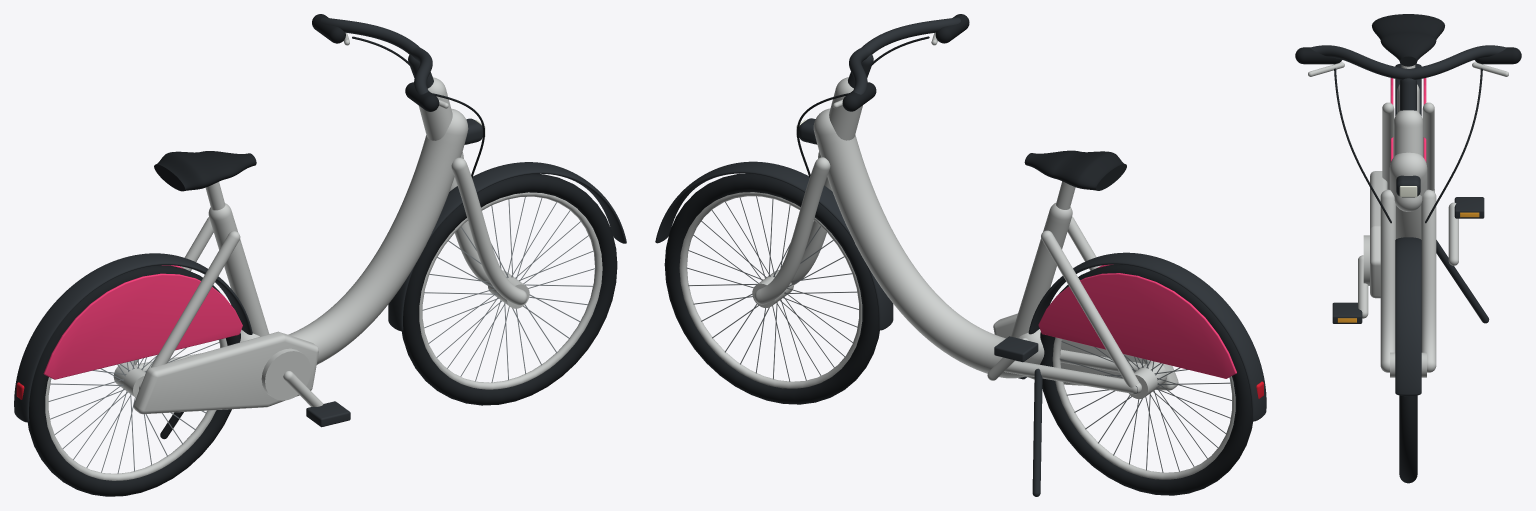
3 renders of one model, left to right at view 1: azimuth 30°, elevation 25°; view 2: azimuth 150°, elevation 25°; view 3: azimuth 270°, elevation 25°, orthographic. The views are drawn at different scales.
Parts seen in each view (by area): view 1: wheel_front, rear_skirt_0.047, wheel_rear, step_through_frame, bicycle_steering, chain_guard, rear_fender, saddle, seat_tube, seat_stay_0.058, crank_disc, head_tube (+1 smaller); view 2: wheel_front, wheel_rear, step_through_frame, rear_skirt_-0.047, bicycle_steering, rear_fender, saddle, seat_tube, seat_stay_-0.058, chain_guard, chain_stay_-0.058, head_tube (+3 smaller); view 3: bicycle_steering, saddle, wheel_front, step_through_frame, head_tube, chain_guard, seat_stay_-0.058, seat_stay_0.058, kickstand, crank_arm_-1, pedal_-1, pedal_1 (+4 smaller).
Part boxes in pixels (x1,y1,x2,y2): wheel_front: [401, 174, 617, 405]; rear_skirt_0.047: [43, 273, 242, 379]; wheel_rear: [27, 265, 240, 496]; step_through_frame: [240, 108, 468, 364]; bicycle_steering: [312, 14, 626, 331]; chain_guard: [133, 331, 318, 414]; rear_fender: [14, 253, 252, 422]; saddle: [154, 151, 256, 191]; seat_tube: [208, 203, 269, 336]; seat_stay_0.058: [141, 231, 240, 383]; crank_disc: [261, 348, 311, 400]; head_tube: [418, 77, 463, 158]; wheel_front: [664, 173, 879, 404]; wheel_rear: [1040, 264, 1252, 495]; step_through_frame: [813, 108, 1044, 378]; rear_skirt_-0.047: [1038, 273, 1236, 378]; bicycle_steering: [655, 14, 969, 330]; rear_fender: [1028, 252, 1266, 421]; saddle: [1024, 150, 1126, 190]; seat_tube: [1011, 203, 1072, 337]; seat_stay_-0.058: [1041, 230, 1139, 387]; chain_guard: [993, 313, 1178, 390]; chain_stay_-0.058: [1004, 360, 1141, 394]; head_tube: [818, 77, 862, 158]; bicycle_steering: [1295, 45, 1521, 396]; saddle: [1372, 14, 1444, 66]; wheel_front: [1390, 352, 1426, 483]; step_through_frame: [1389, 152, 1427, 238]; head_tube: [1393, 110, 1423, 211]; chain_guard: [1370, 171, 1387, 298]; seat_stay_-0.058: [1422, 102, 1434, 190]; seat_stay_0.058: [1382, 102, 1394, 189]; kickstand: [1436, 240, 1489, 323]; crank_arm_-1: [1448, 202, 1458, 265]; pedal_-1: [1454, 197, 1484, 218]; pedal_1: [1332, 302, 1362, 323].
Size of the model in its own units: 1.9 by 1.16 by 0.648.
Materials: 10 (1 with a texture image).
